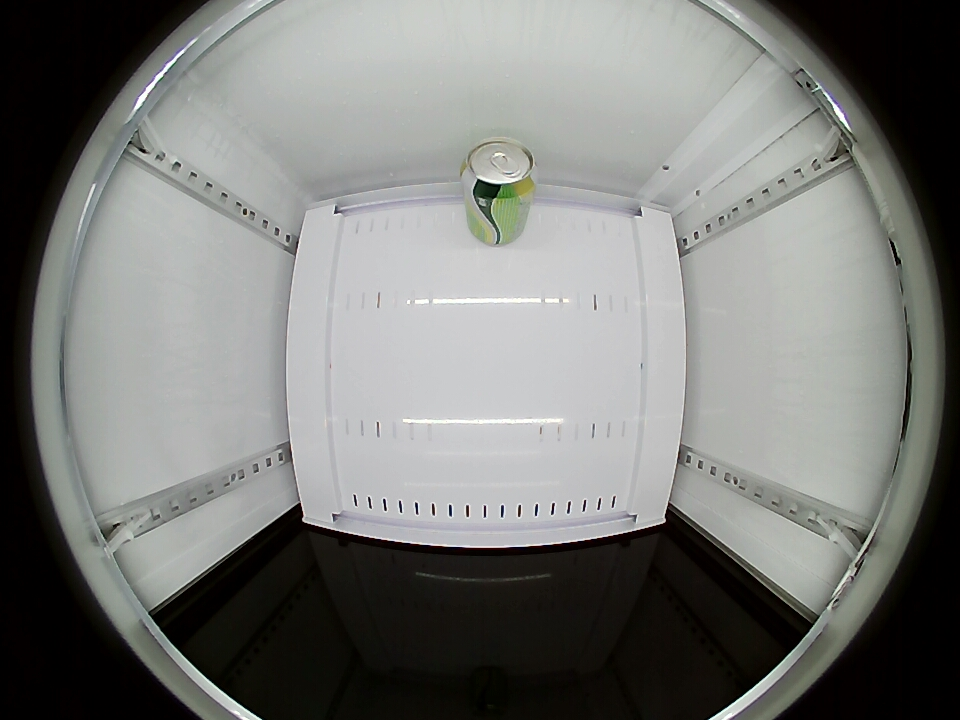quchenshixiangcao: (461, 137, 537, 203)
